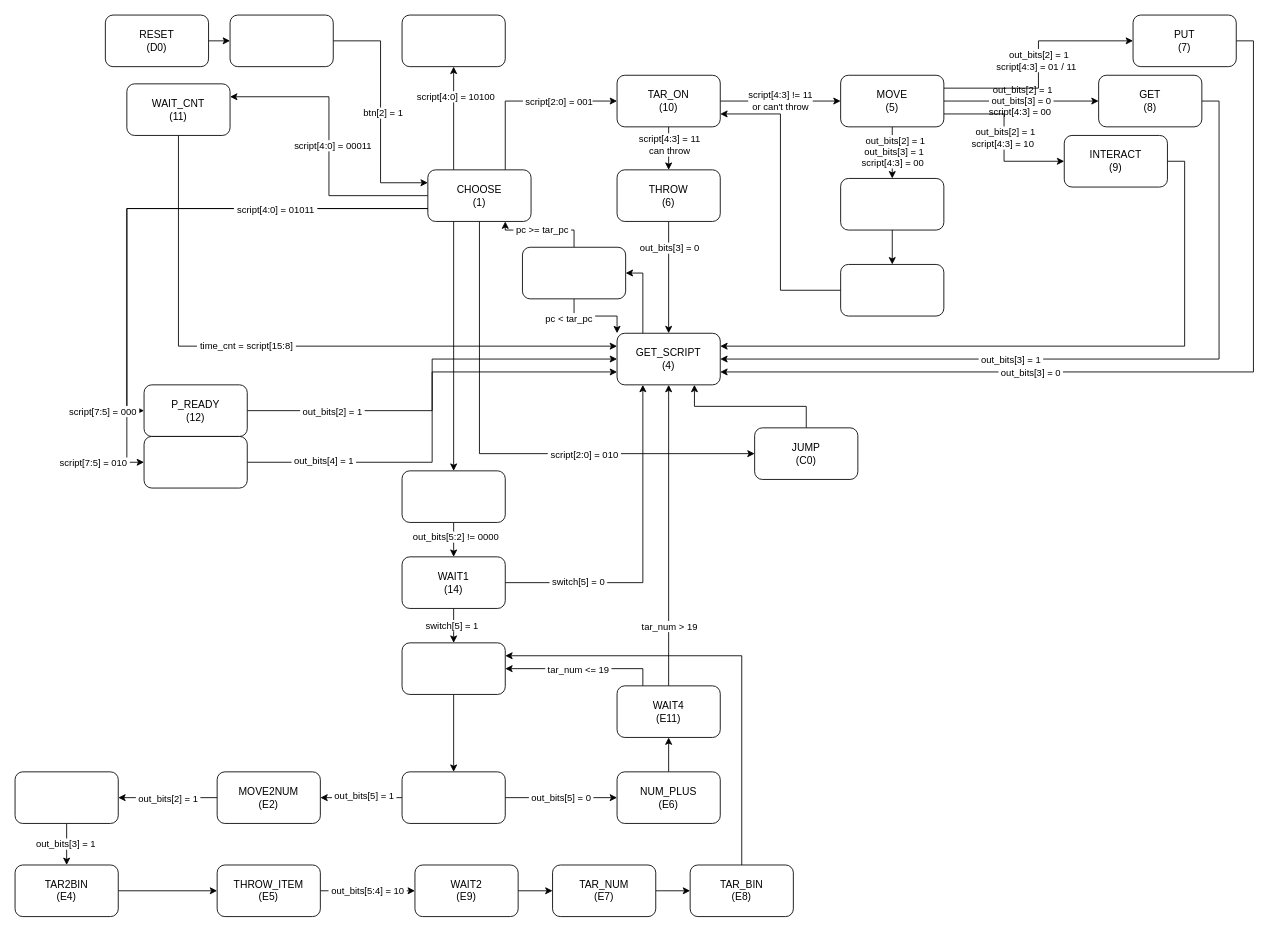
Image size: 1275x932. Some labels were removed from this diagram. Each missing label, with the box of its shape:
BG (0): (229, 14, 333, 67)
CMP (B0): (522, 246, 626, 299)
ENDGAME (3): (401, 14, 505, 67)
GET_ITEM (E3): (14, 771, 118, 823)
START (2): (401, 470, 505, 522)
T_READY (13): (143, 436, 247, 488)
TAR2NUM (E1): (401, 642, 505, 694)
TAR_TO_BIN (D1): (840, 178, 944, 230)
THROW_IT (D2): (840, 264, 944, 316)
WAIT3 (E10): (401, 771, 505, 823)
